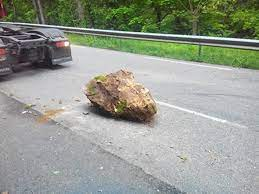obstacle: (82, 69, 158, 122)
